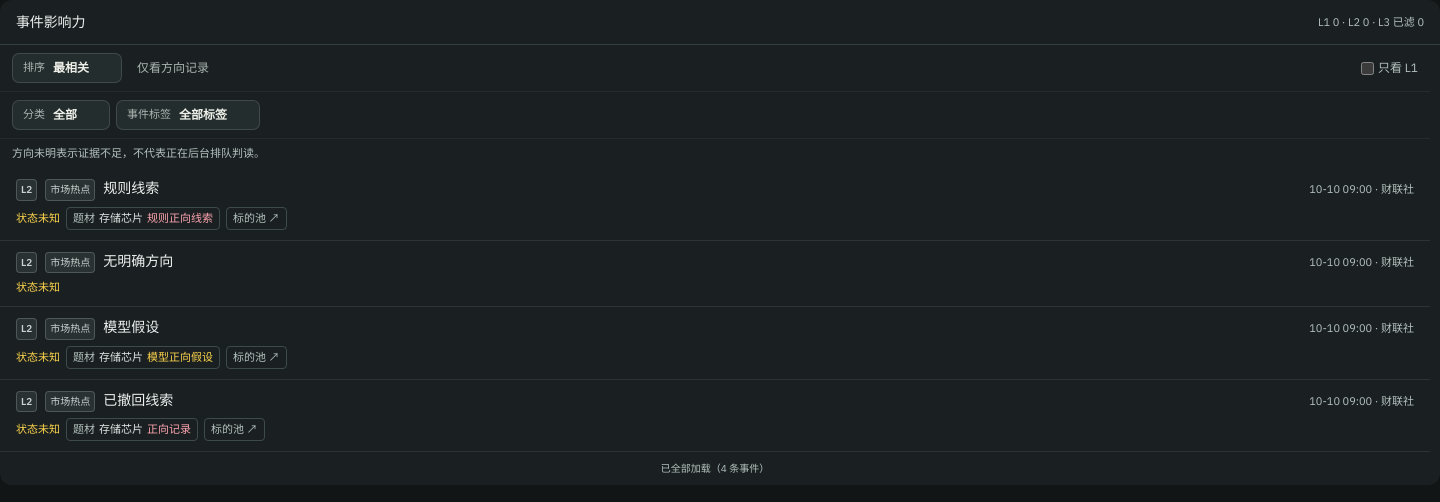
Test case: EventsTab judgement display › filters recorded directions without promoting model guesses or deleting the original list
The image size is (1440, 502).
Step 1. Click the button "仅看方向记录" → (173,68), box [128,54,218,82]
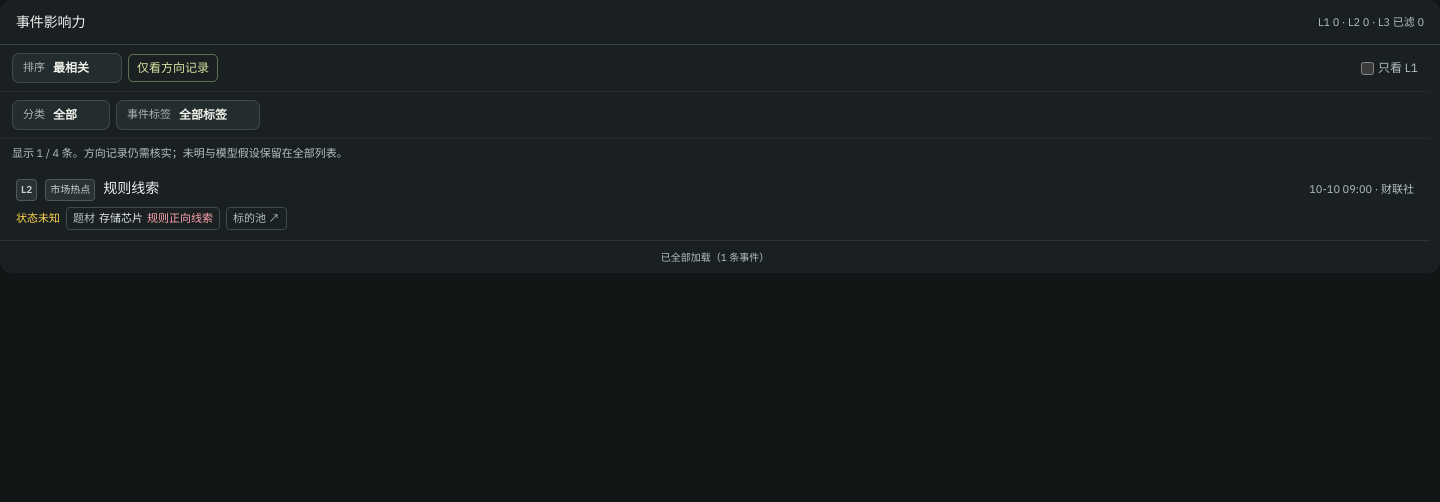
Expected: the button "无明确方向" is gone
Expected: the button "已撤回线索" is gone
Expected: the text "显示 1 / 4 条。方向记录仍需核实；未明与模型假设保留在全部列表。" is shown, [12,146,348,160]
Step 2. Click the button "仅看方向记录" → (173,68), box [128,54,218,82]
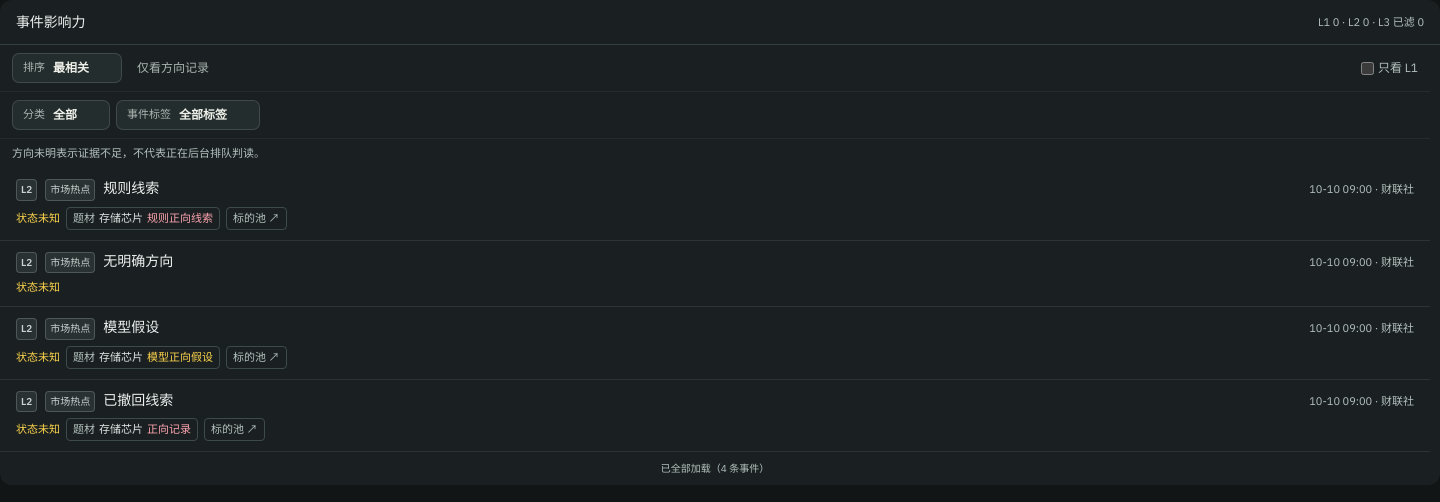
Expected: the button "模型假设" is shown, [103,317,159,337]
Expected: the button "无明确方向" is shown, [103,251,173,271]
